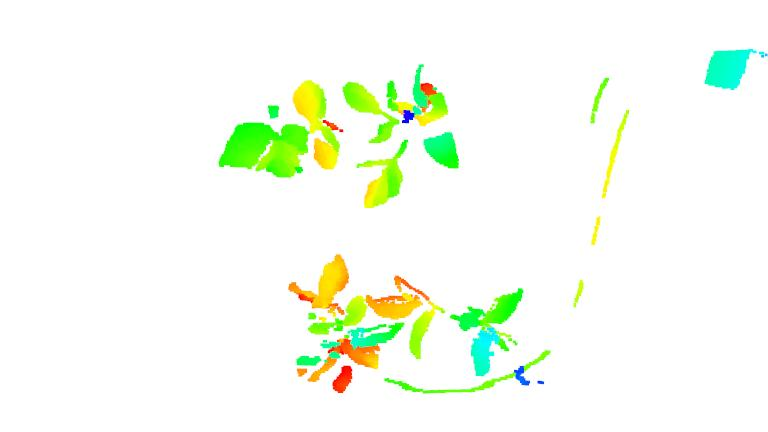mungbean: (337, 64, 466, 209), (361, 275, 528, 380), (280, 257, 402, 392), (215, 76, 340, 185)
